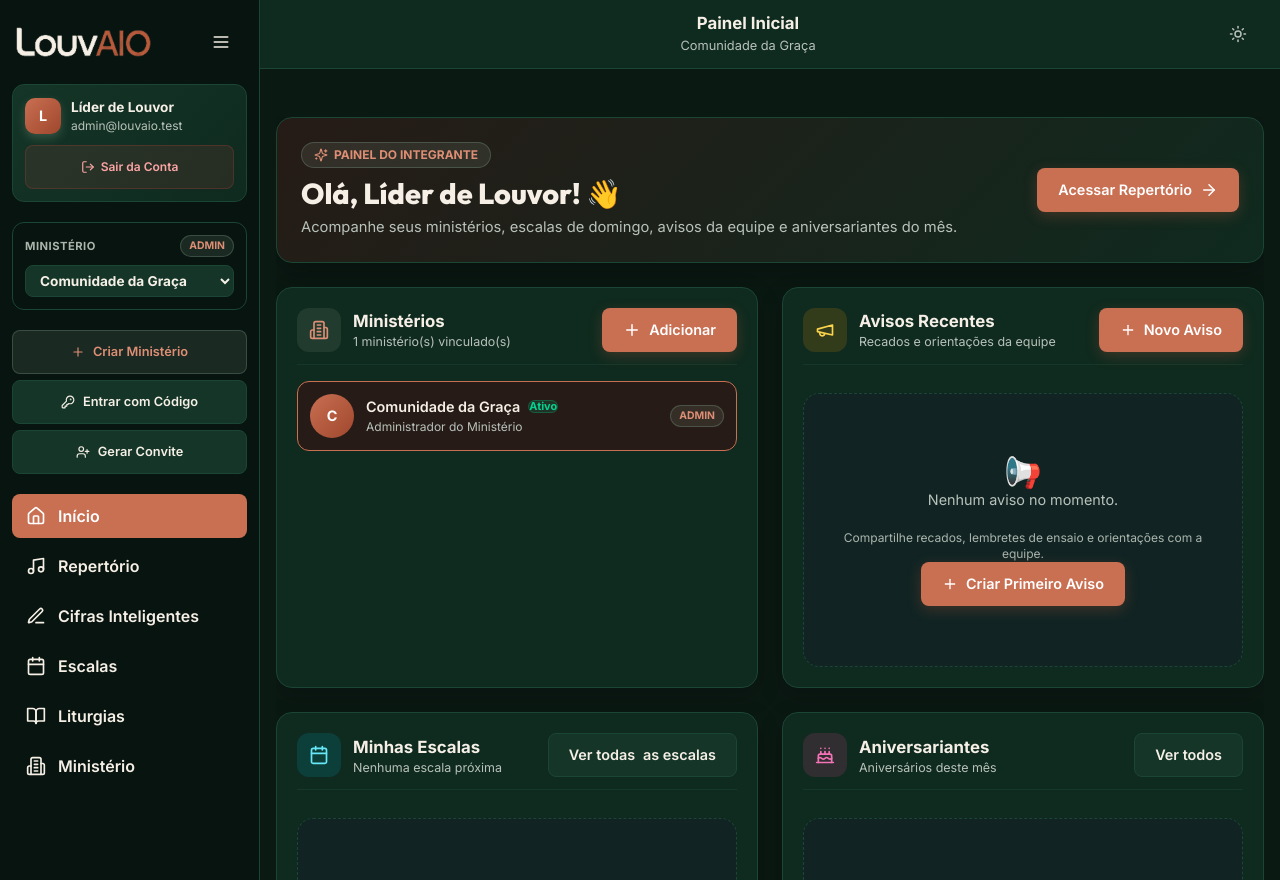
Test case: Liturgies Direct Route & App Integration › navigates from sidebar to Liturgias and updates active view
Note: Click Liturgias button in sidebar
Click the button "Liturgias" at (130, 716), box [12,694,247,738]
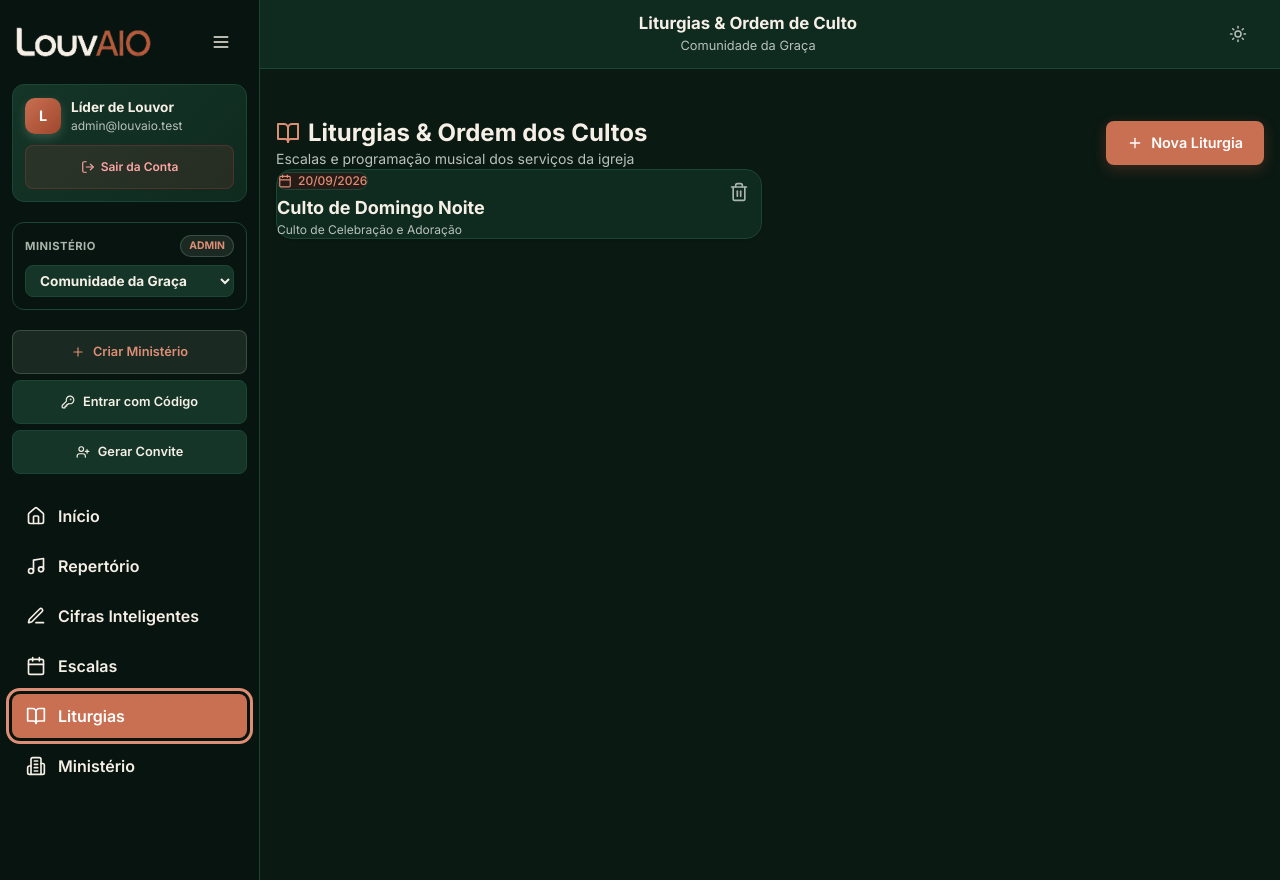
Expected: the heading "Culto de Domingo Noite" is shown, [277,197,485,218]
Expected: the heading "Liturgias & Ordem de Culto" is shown, [639,13,857,33]
